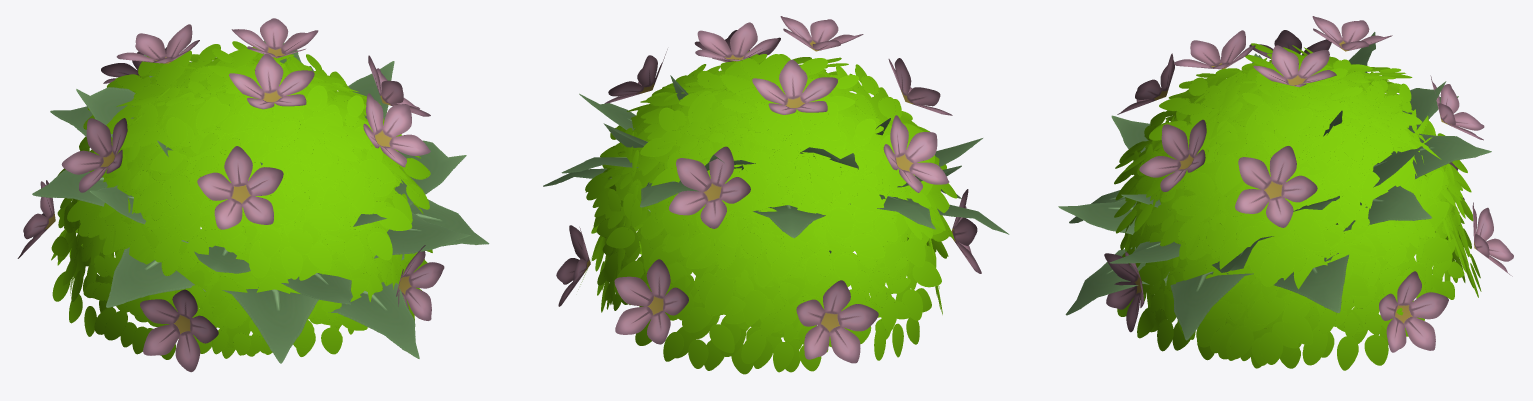
The model's file is bushes.glb.
The picture shows the model from 3 angles, left to right: view 1: azimuth 30°, elevation 25°; view 2: azimuth 150°, elevation 25°; view 3: azimuth 270°, elevation 25°; orthographic projection. The views are drawn at different scales.
Parts seen in each view (by area): view 1: Bush, Bush_Flowers, Plant_1; view 2: Bush, Bush_Flowers, Plant_1; view 3: Bush, Bush_Flowers, Plant_1.
Part boxes in pixels (x1=…): Bush: x1=51, y1=41, x2=432, y2=359; Bush_Flowers: x1=17, y1=18, x2=444, y2=372; Plant_1: x1=32, y1=41, x2=489, y2=363; Bush: x1=578, y1=51, x2=957, y2=374; Bush_Flowers: x1=556, y1=16, x2=981, y2=363; Plant_1: x1=543, y1=75, x2=1009, y2=253; Bush: x1=1114, y1=43, x2=1481, y2=370; Bush_Flowers: x1=1104, y1=16, x2=1513, y2=352; Plant_1: x1=1058, y1=32, x2=1491, y2=340.
Size of the model in its own units: 1.24 by 0.7585 by 1.23.
2 materials, 2 textured.
